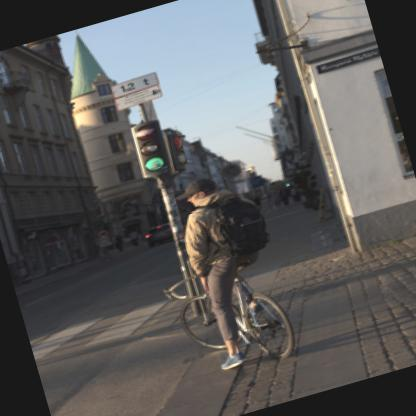trafficlight: (127, 118, 172, 178)
